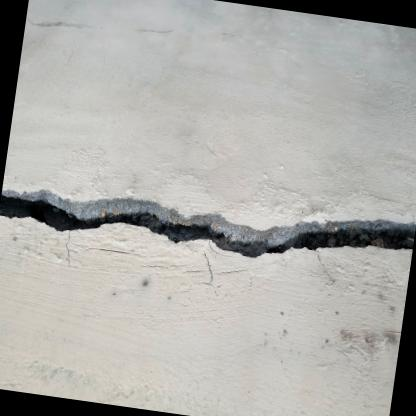crack: (0, 185, 416, 256)
